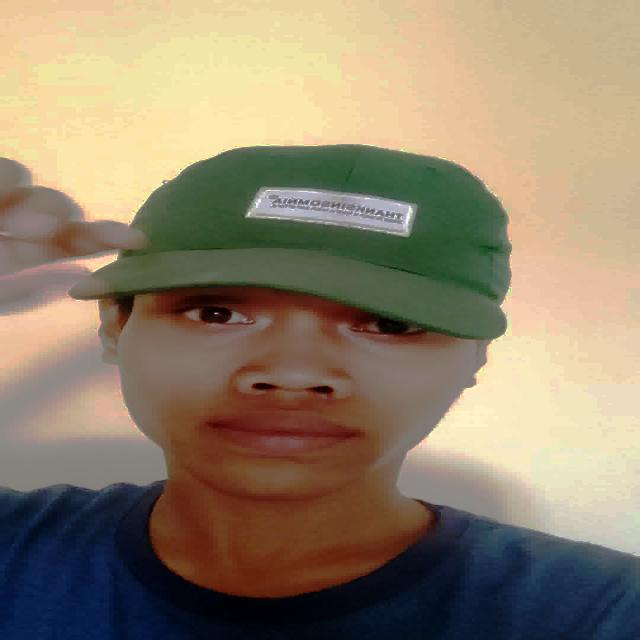TOPI: (81, 138, 535, 334)
